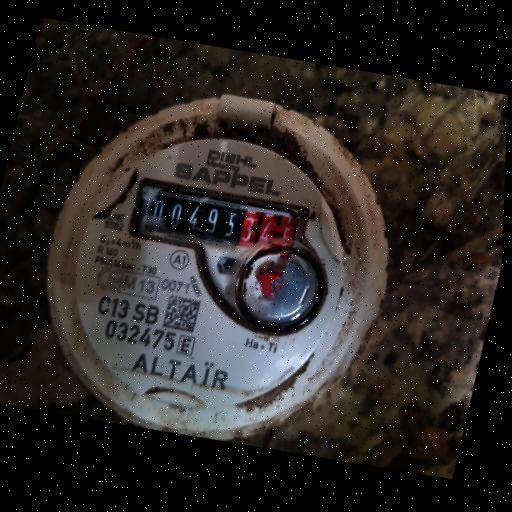0: (144, 193, 171, 233), (163, 196, 189, 236)
3: (238, 209, 261, 248)
4: (183, 200, 206, 239), (255, 213, 278, 252)
5: (219, 206, 244, 245), (275, 214, 297, 245)
9: (201, 204, 225, 243)
border_water_meter_number: (136, 184, 301, 264)
